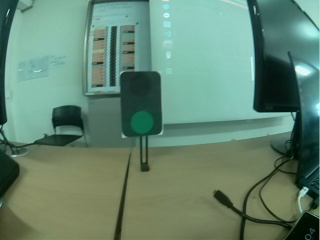green_light: (120, 71, 162, 137)
